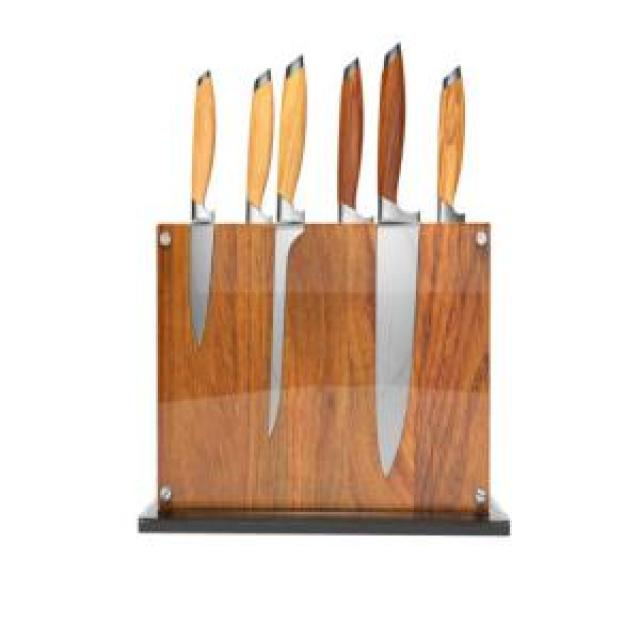knife: (378, 34, 422, 480), (267, 56, 309, 438), (190, 68, 220, 345), (335, 49, 372, 225), (435, 60, 468, 227), (243, 68, 276, 230)
